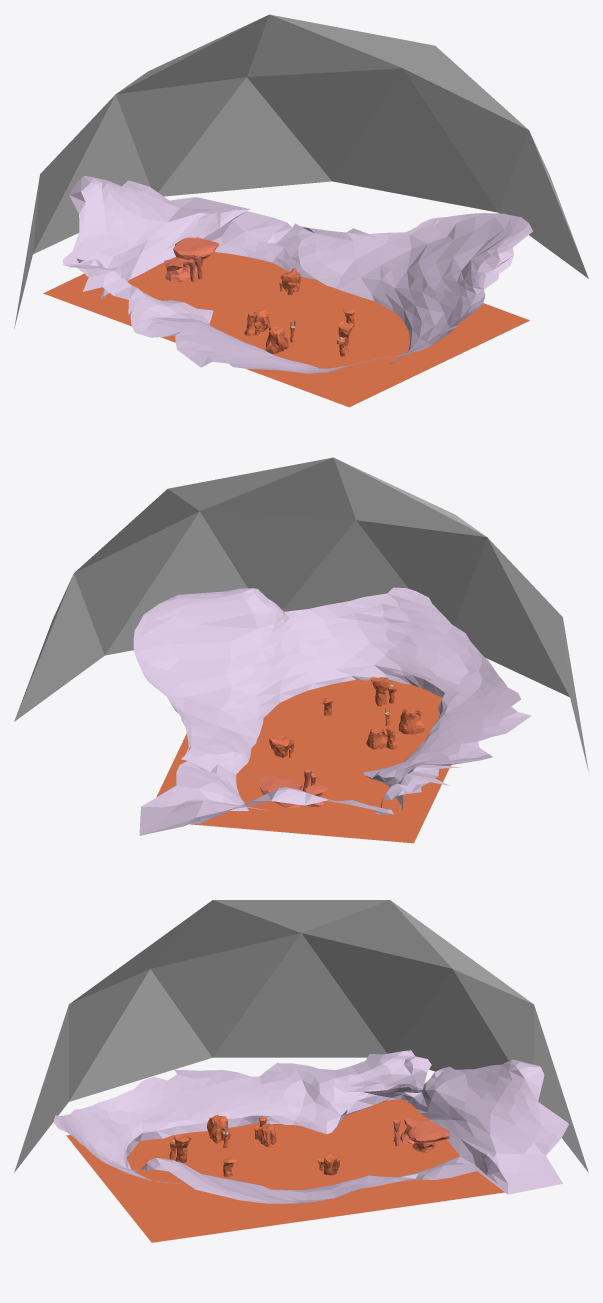
The model's file is canyon2.glb.
3 renders of one model, top to bottom at view 1: azimuth 30°, elevation 25°; view 2: azimuth 150°, elevation 25°; view 3: azimuth 270°, elevation 25°, orthographic. The views are drawn at different scales.
Visible parts, largest first — view 1: Icosphere, Cylinder.011, Plane, far_rock1; view 2: Icosphere, Cylinder.011, Plane, far_rock1, Cylinder; view 3: Icosphere, Cylinder.011, Plane, far_rock1.
Boxes of the visible parts, <box> form: Icosphere: <box>14,14,588,328</box>; Cylinder.011: <box>62,176,532,373</box>; Plane: <box>43,252,529,407</box>; far_rock1: <box>173,237,219,272</box>; Icosphere: <box>14,457,588,771</box>; Cylinder.011: <box>133,587,531,835</box>; Plane: <box>156,679,450,843</box>; far_rock1: <box>259,774,302,808</box>; Cylinder: <box>398,707,424,734</box>; Icosphere: <box>14,900,588,1172</box>; Cylinder.011: <box>54,1050,568,1203</box>; Plane: <box>66,1099,504,1242</box>; far_rock1: <box>407,1121,449,1152</box>.
Bounding box in the file's own units: 1902 × 1013 × 2000.
